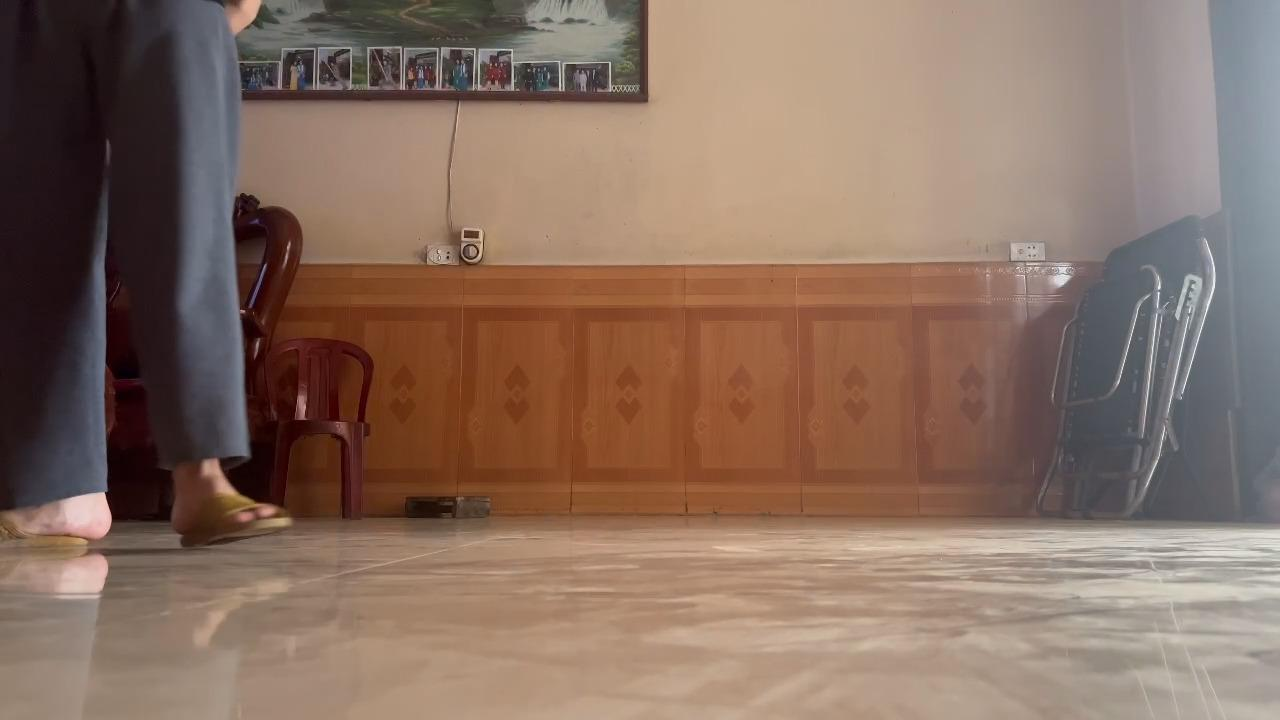no-boot: (165, 473, 299, 561), (0, 480, 123, 568)
